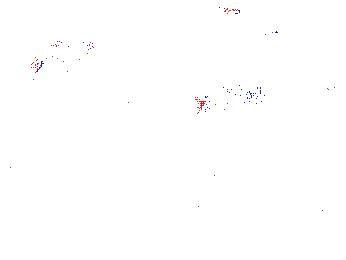red belly glassfish: (212, 3, 241, 18), (253, 25, 280, 40), (324, 78, 341, 99)
redtail glassfish: (30, 38, 97, 74), (197, 88, 254, 117)
siberian prawn: (23, 206, 102, 242)
